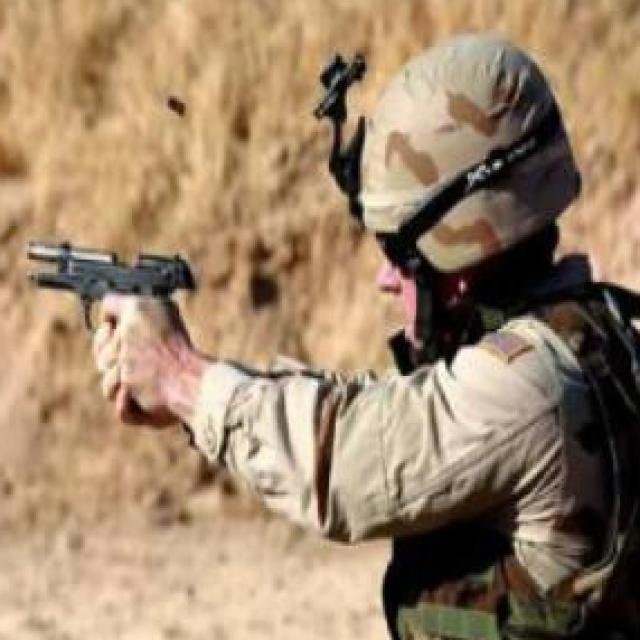pistol: (25, 237, 208, 340)
